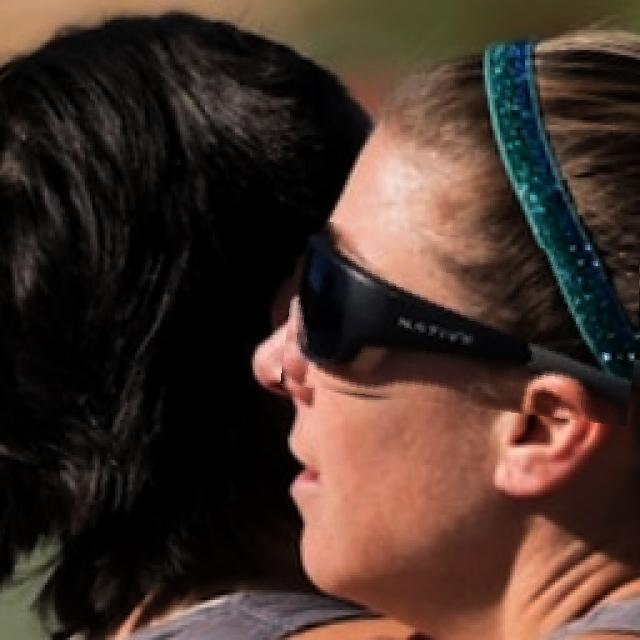glasses: (284, 228, 640, 416)
